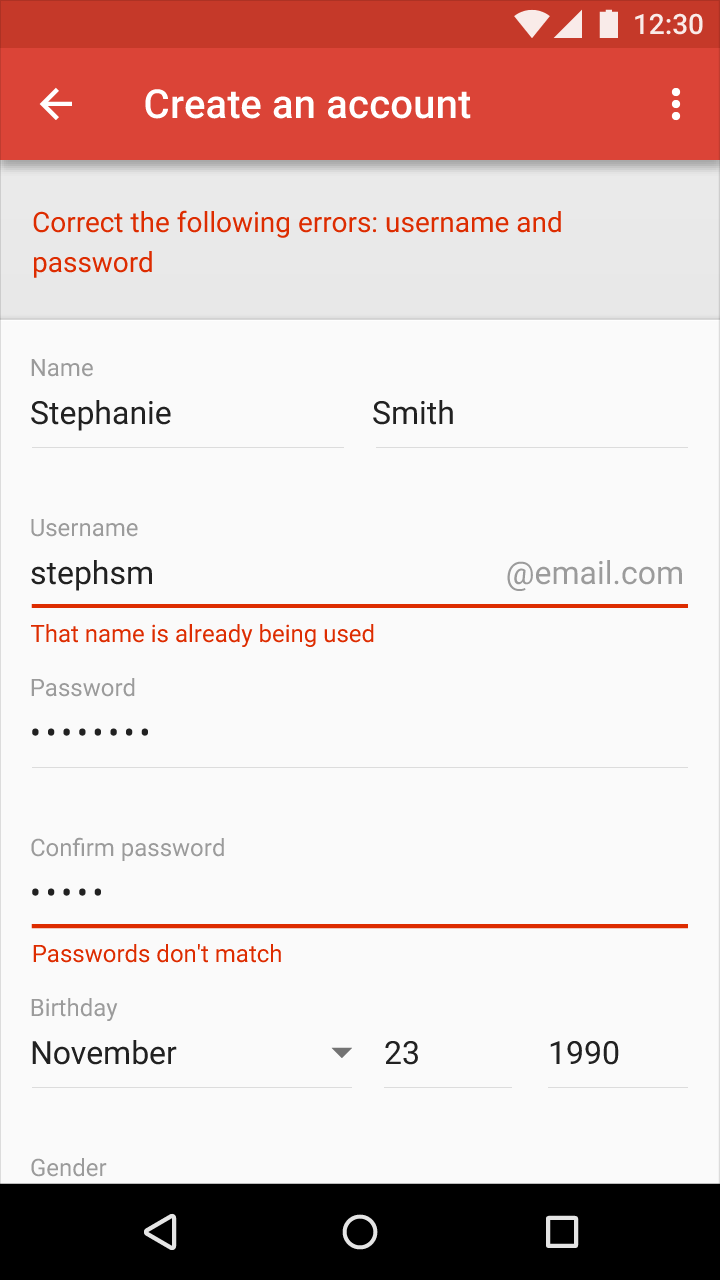error_field: (23, 547, 692, 611), (24, 869, 687, 933)
error_message: (33, 208, 570, 280), (137, 80, 490, 129), (27, 619, 383, 651), (34, 938, 292, 969)
